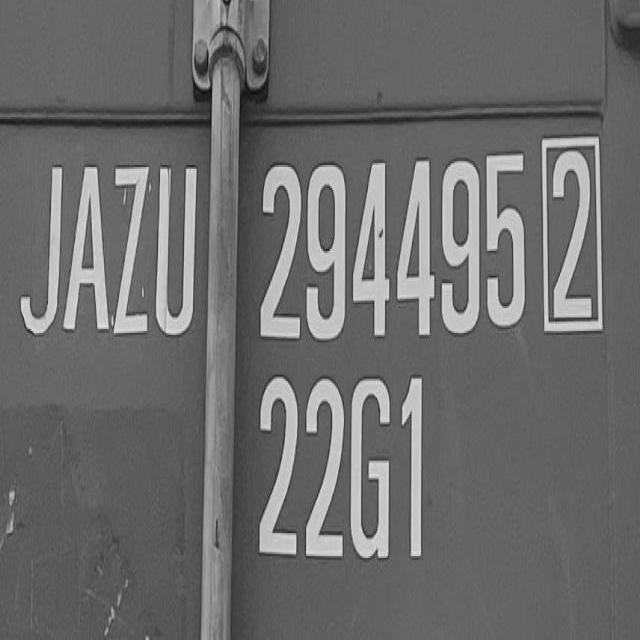dv: (535, 125, 610, 348)
owner: (6, 151, 201, 352)
serial: (256, 135, 526, 352)
size: (234, 371, 446, 576)
